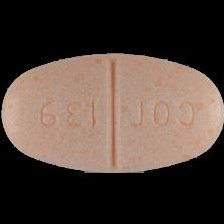68151-0984: (0, 0, 224, 224)
